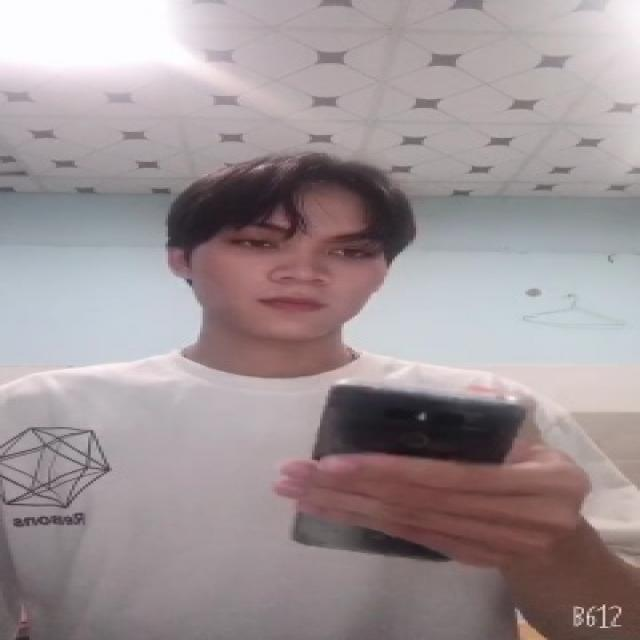Phone: (288, 380, 524, 566)
